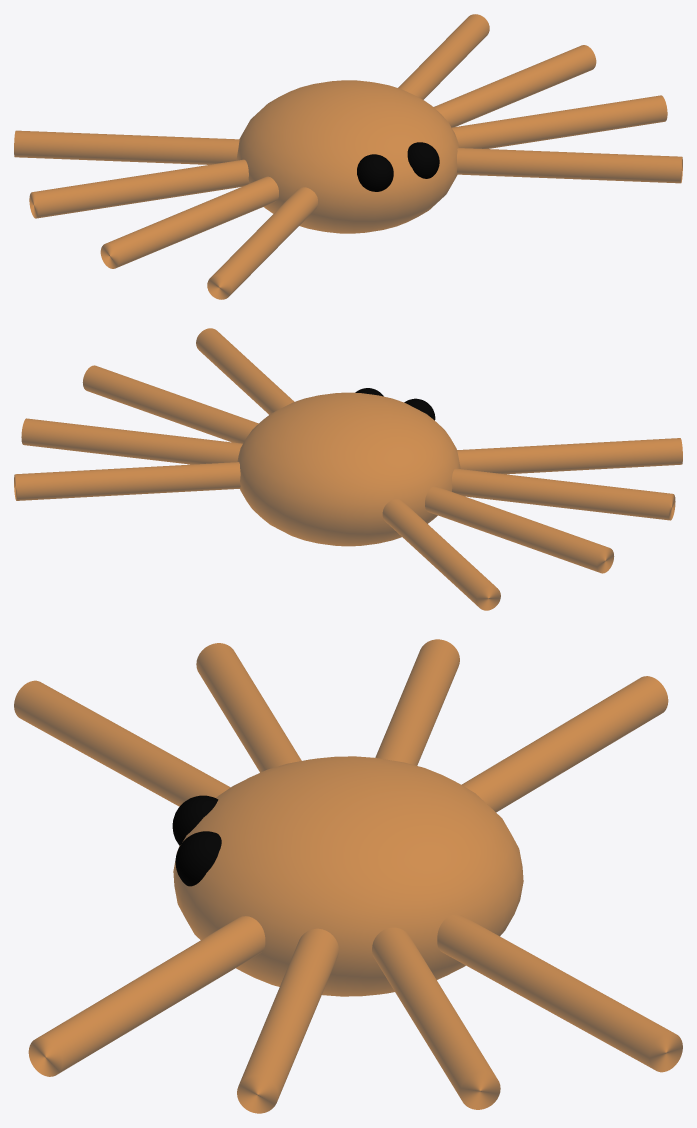
The picture shows the model from 3 angles, top to bottom: view 1: azimuth 30°, elevation 25°; view 2: azimuth 150°, elevation 25°; view 3: azimuth 270°, elevation 25°; orthographic projection. The views are drawn at different scales.
Parts seen in each view (by area): view 1: Sphere, Cylinder.001, Cylinder.002, Cylinder.004, Cylinder.003, Sphere.001, Sphere.002; view 2: Sphere, Cylinder.003, Cylinder.004, Cylinder.002, Cylinder.001; view 3: Sphere, Cylinder.003, Cylinder.001, Cylinder.004, Cylinder.002, Sphere.002, Sphere.001.
Boxes of the visible parts, <box> form: Sphere: <box>236,80,459,233</box>; Cylinder.001: <box>14,130,682,183</box>; Cylinder.002: <box>29,95,667,218</box>; Cylinder.004: <box>100,45,596,268</box>; Cylinder.003: <box>207,14,489,299</box>; Sphere.001: <box>357,154,393,191</box>; Sphere.002: <box>407,142,439,178</box>; Sphere: <box>237,392,460,546</box>; Cylinder.003: <box>14,438,682,500</box>; Cylinder.004: <box>21,418,675,520</box>; Cylinder.002: <box>82,365,614,573</box>; Cylinder.001: <box>196,328,500,610</box>; Sphere: <box>173,756,523,996</box>; Cylinder.003: <box>14,680,682,1072</box>; Cylinder.001: <box>28,676,668,1076</box>; Cylinder.004: <box>196,643,500,1109</box>; Cylinder.002: <box>237,639,459,1113</box>; Sphere.002: <box>175,831,221,886</box>; Sphere.001: <box>172,795,218,845</box>.
Size of the model in its own units: 1.98 by 0.4 by 1.28.
